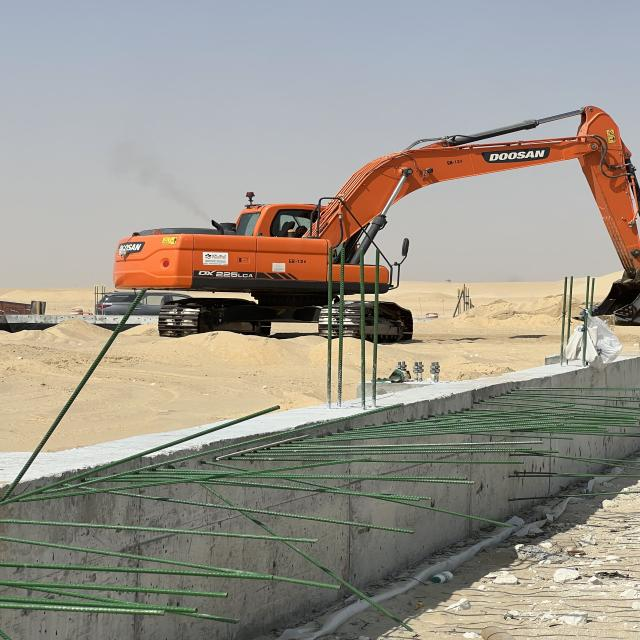excavator: (113, 103, 638, 342)
